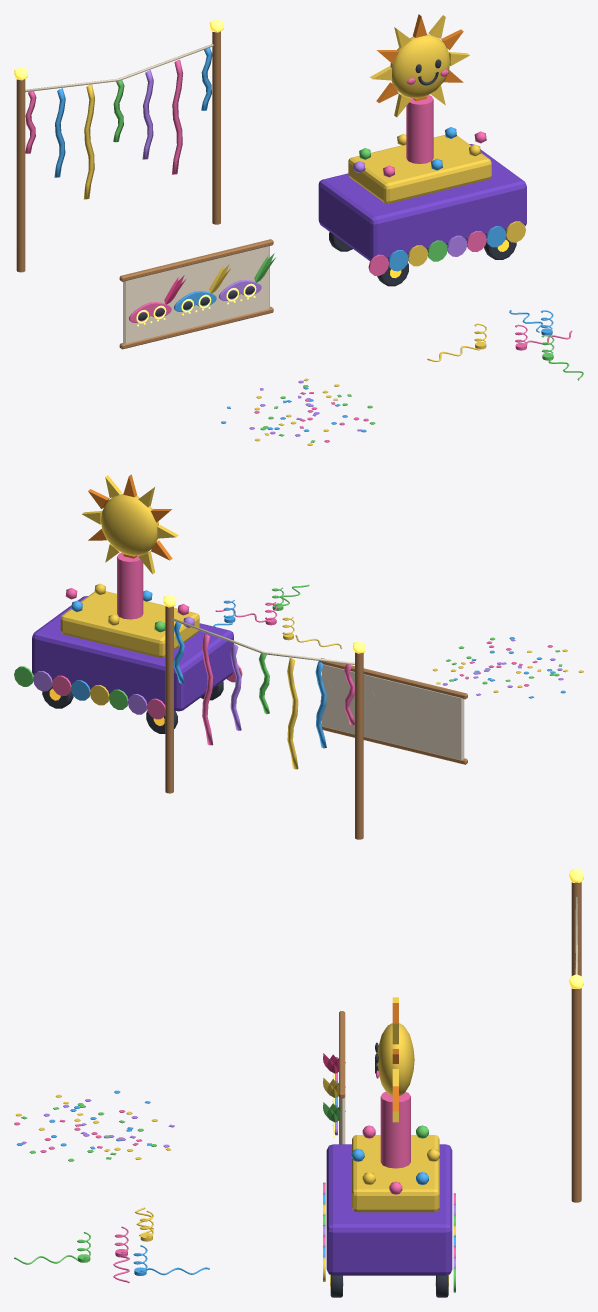
File: carnaval.glb
The picture shows the model from 3 angles, top to bottom: view 1: azimuth 30°, elevation 25°; view 2: azimuth 150°, elevation 25°; view 3: azimuth 270°, elevation 25°; orthographic projection. The views are drawn at different scales.
Parts seen in each view (by area): view 1: carro-alegorico, mascaras, faixas, sol-do-carro, serpentinas, confetes; view 2: carro-alegorico, mascaras, faixas, sol-do-carro, serpentinas, confetes; view 3: carro-alegorico, faixas, mascaras, serpentinas, confetes, sol-do-carro.
Part boxes in pixels (x1=…): carro-alegorico: x1=318, y1=34, x2=526, y2=286; mascaras: x1=119, y1=239, x2=275, y2=349; faixas: x1=14, y1=19, x2=223, y2=272; sol-do-carro: x1=370, y1=14, x2=469, y2=117; serpentinas: x1=427, y1=310, x2=583, y2=380; confetes: x1=221, y1=378, x2=375, y2=445; carro-alegorico: x1=14, y1=494, x2=242, y2=733; mascaras: x1=318, y1=658, x2=467, y2=764; faixas: x1=163, y1=594, x2=365, y2=839; sol-do-carro: x1=82, y1=474, x2=178, y2=574; serpentinas: x1=213, y1=584, x2=342, y2=648; confetes: x1=432, y1=637, x2=583, y2=698; carro-alegorico: x1=323, y1=1023, x2=455, y2=1297; faixas: x1=569, y1=868, x2=583, y2=1202; mascaras: x1=323, y1=1011, x2=345, y2=1144; serpentinas: x1=14, y1=1207, x2=209, y2=1282; confetes: x1=14, y1=1090, x2=174, y2=1161; sol-do-carro: x1=392, y1=997, x2=398, y2=1122.
Bounding box in the file's own units: 4.26 × 2.32 × 4.54.
